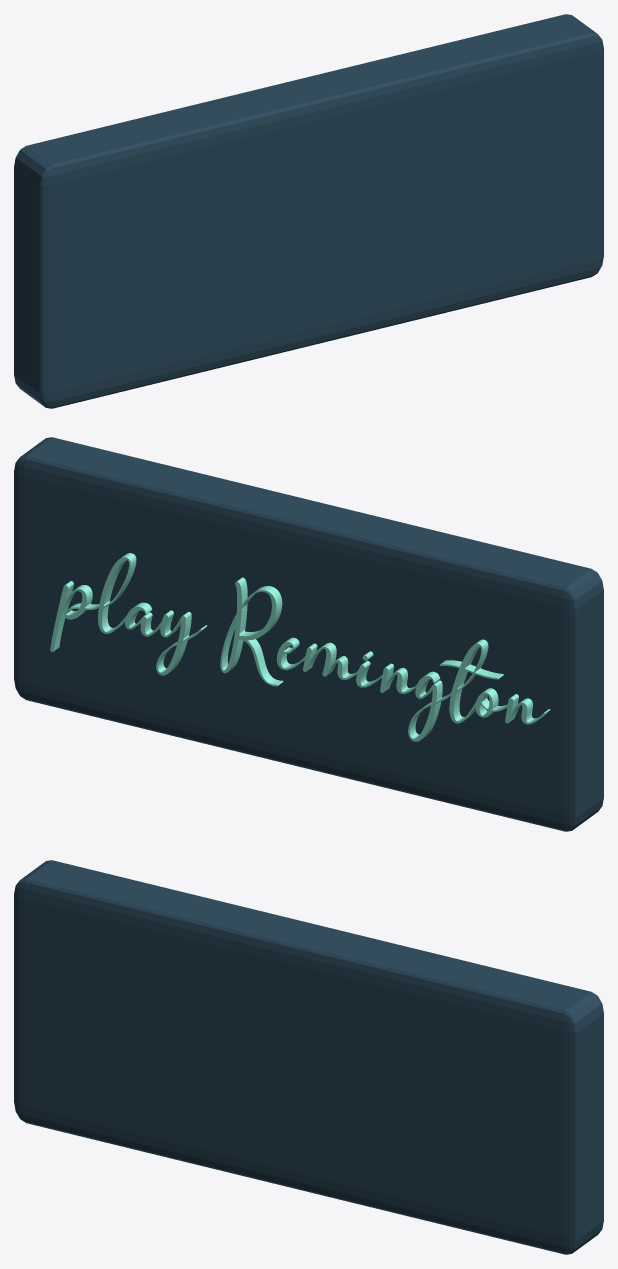
File: 101_UI_PLAYREMINGTONbutton_.fbx
3 views of the same model, one above another, from view 1: azimuth 30°, elevation 25°; view 2: azimuth 150°, elevation 25°; view 3: azimuth 330°, elevation 25° (orthographic).
Parts seen in each view (by area): view 1: Cube.035; view 2: Cube.035, dress me.101; view 3: Cube.035.
Boxes of the visible parts, <box> form: Cube.035: <box>14,14,603,408</box>; Cube.035: <box>14,437,603,831</box>; dress me.101: <box>50,553,550,741</box>; Cube.035: <box>14,860,603,1254</box>.
Bounding box in the file's own units: 102 × 42.35 × 11.36.
